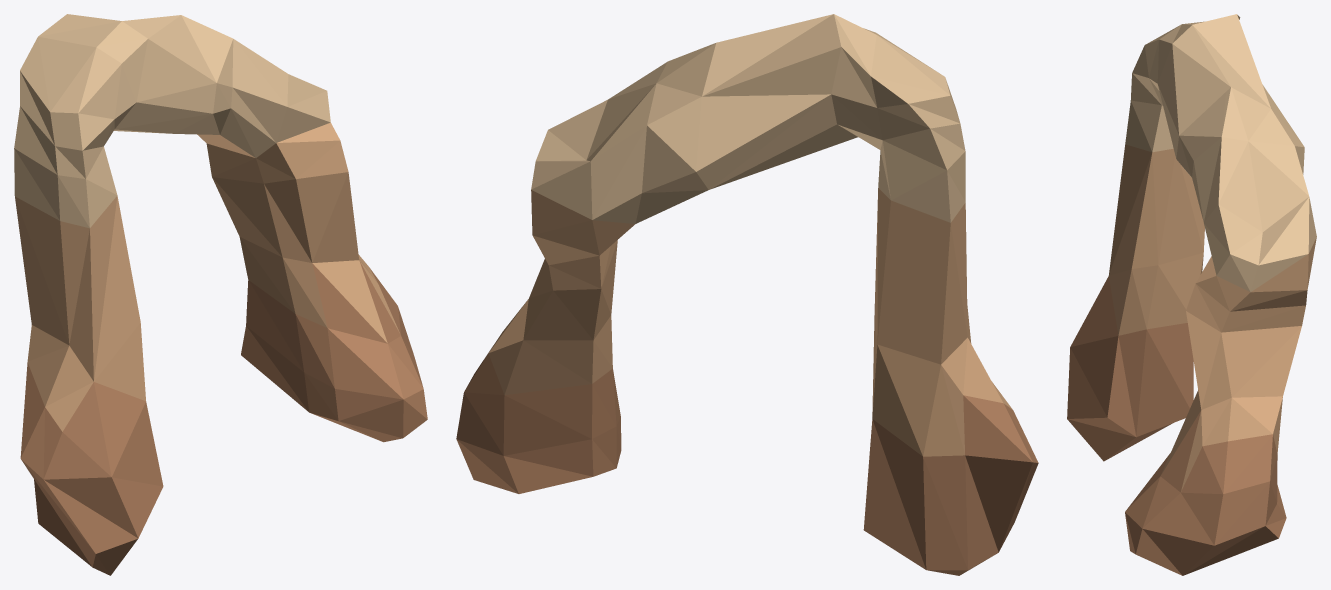
File: canyon-5-5.glb
3 renders of one model, left to right at view 1: azimuth 30°, elevation 25°; view 2: azimuth 150°, elevation 25°; view 3: azimuth 270°, elevation 25°, orthographic. The views are drawn at different scales.
Parts seen in each view (by area): view 1: canyon-5-5; view 2: canyon-5-5; view 3: canyon-5-5.
Part boxes in pixels (left/top/right/bottom): canyon-5-5: left=14, top=14, right=427, bottom=575; canyon-5-5: left=456, top=14, right=1038, bottom=575; canyon-5-5: left=1067, top=14, right=1316, bottom=575.
Size of the model in its own units: 23.76 by 26 by 12.7.
